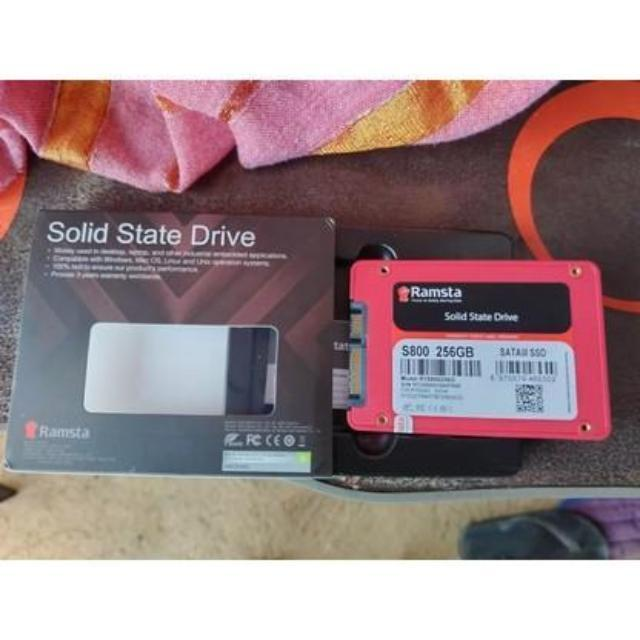DISK: (348, 256, 612, 438)
